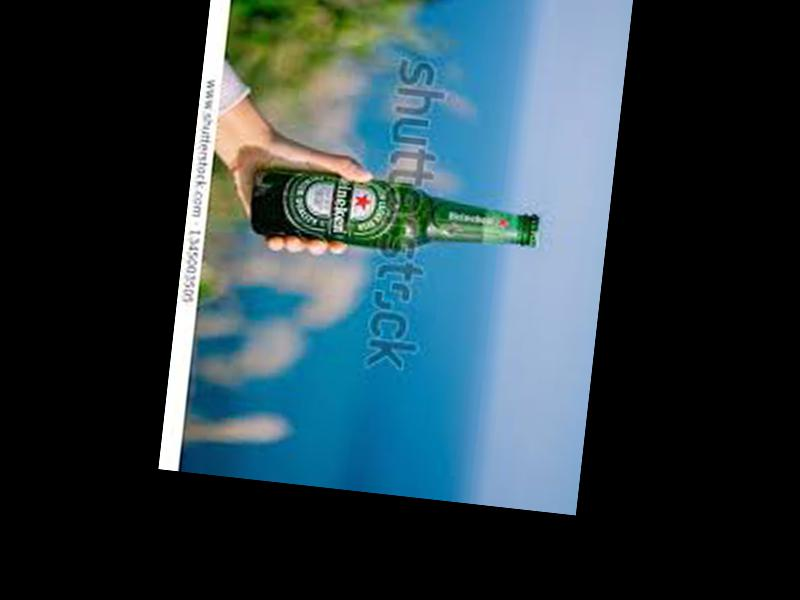Beer: (251, 163, 543, 265)
